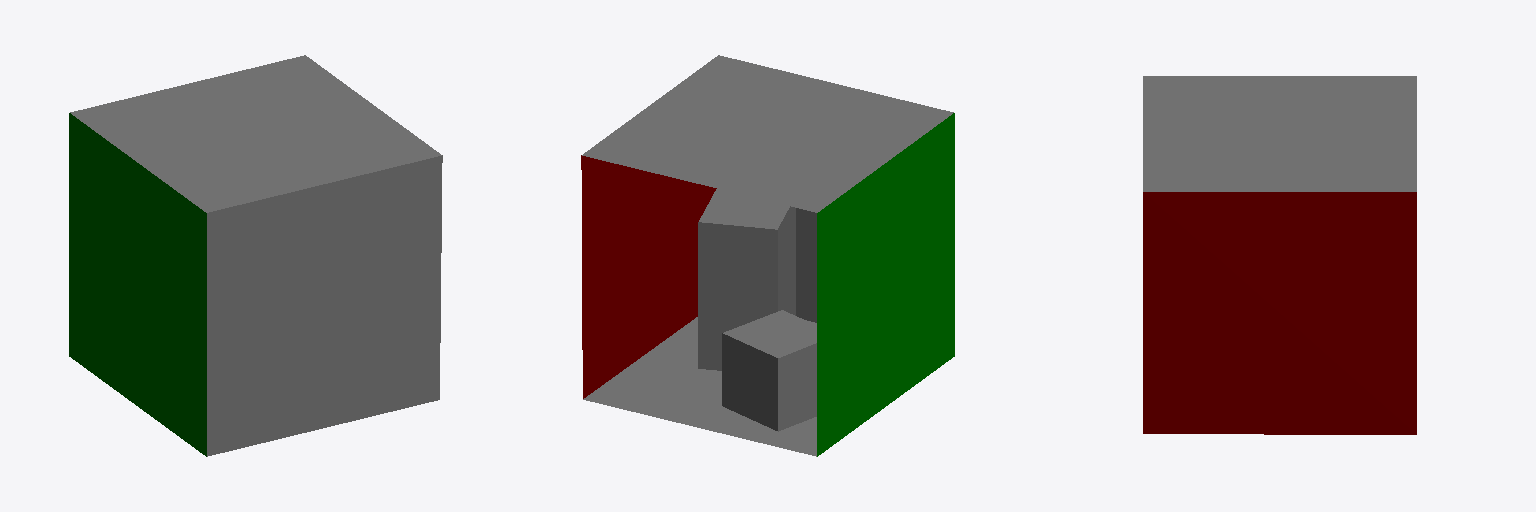
Rendered from cb-specular.obj.
The picture shows the model from 3 angles: view 1: azimuth 30°, elevation 25°; view 2: azimuth 150°, elevation 25°; view 3: azimuth 270°, elevation 25°; orthographic projection.
Parts seen in each view (by area): view 1: tallbox; view 2: tallbox; view 3: tallbox.
Part boxes in pixels (x1,y1,x2,y2): tallbox: (69,55,442,456); tallbox: (581,55,954,456); tallbox: (1143,76,1416,434).
Size of the model in its own units: 556 by 549 by 559.